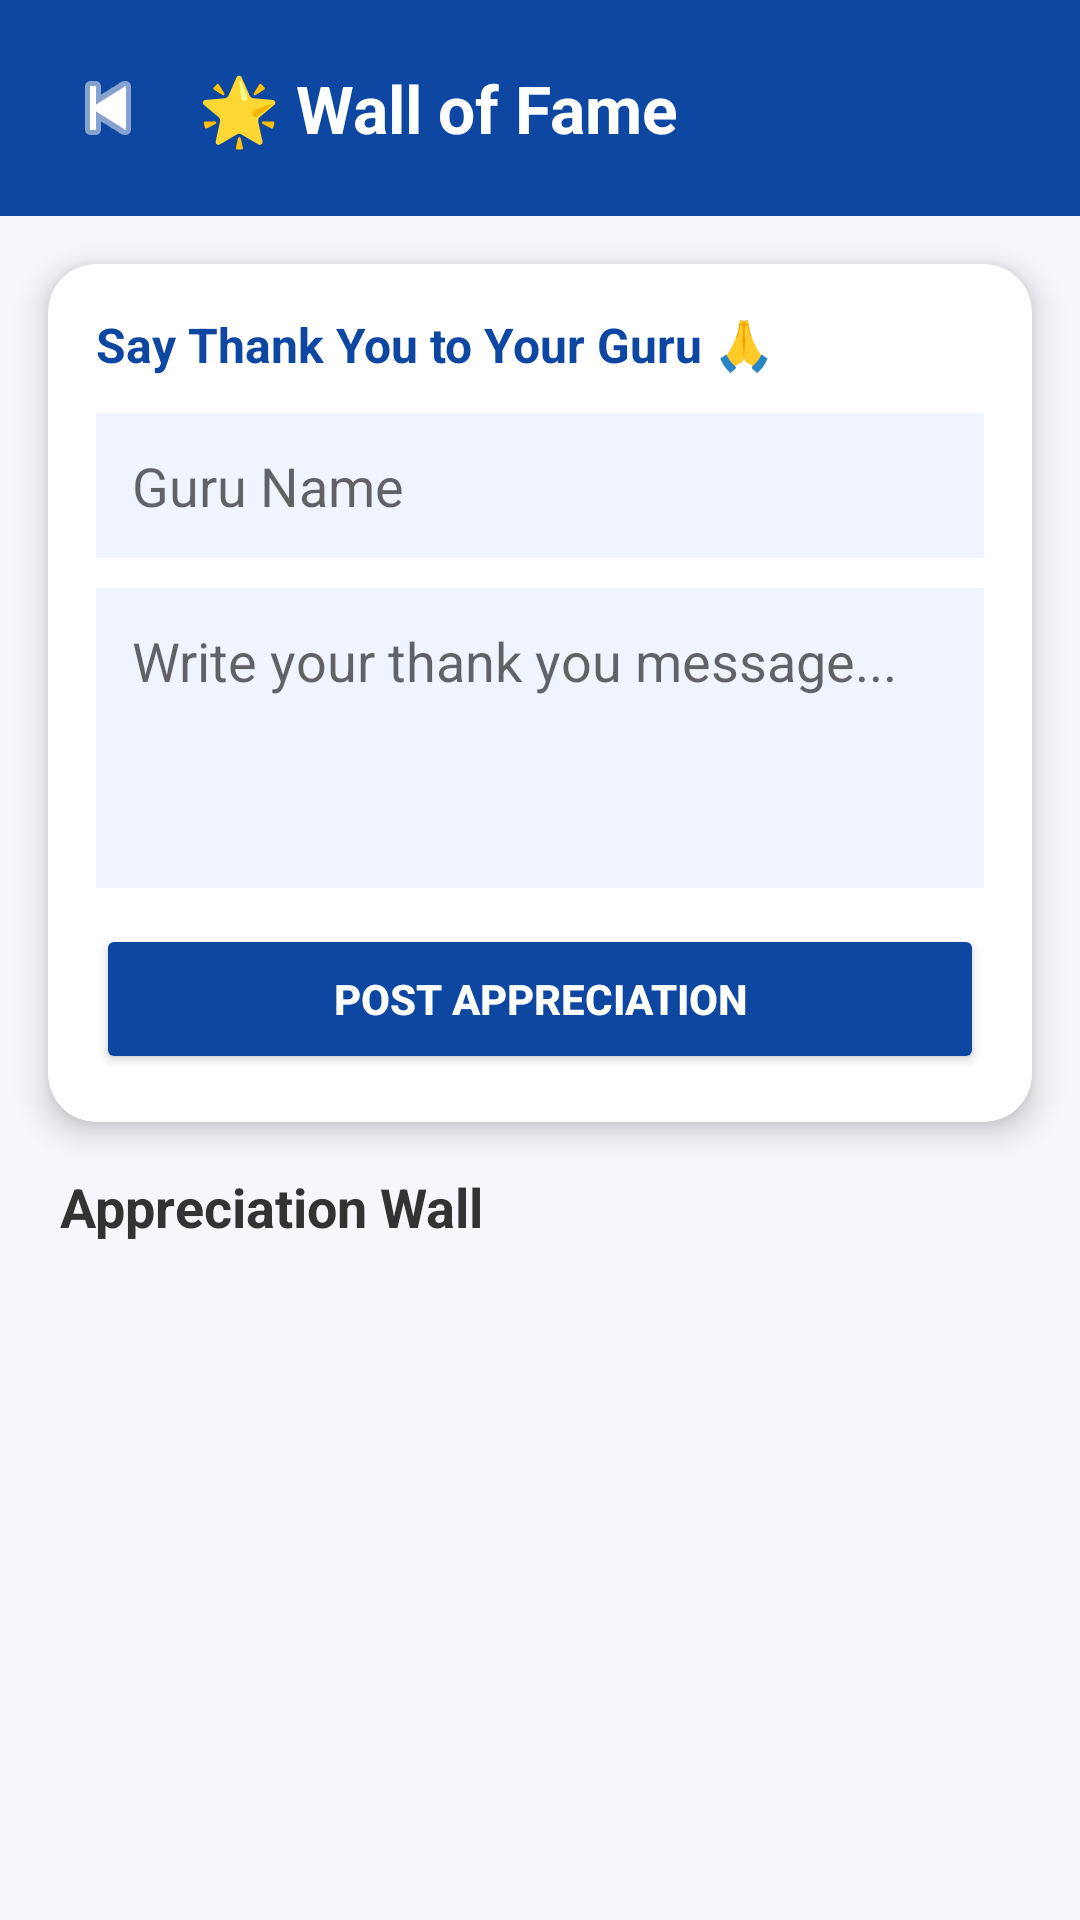

Screen size 1080px x 1920px. Icon name, then its center in pixels as [x,y]:
Back: [108,108]
